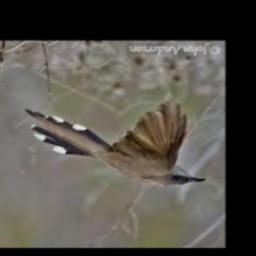Cuckoo: (25, 103, 206, 188)
